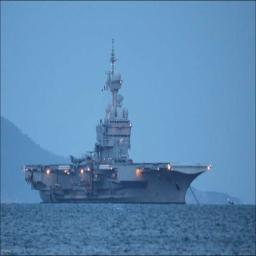Portanaves: (22, 36, 213, 208)
